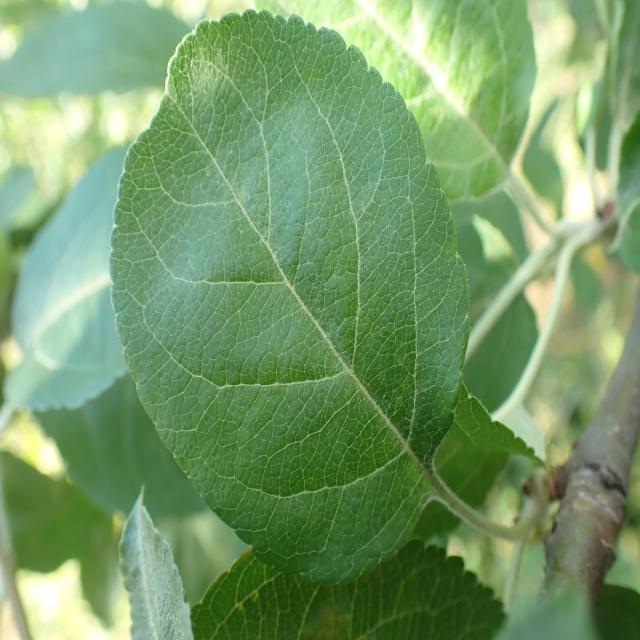healthy: (108, 8, 471, 584), (253, 1, 538, 200), (192, 538, 510, 640)
